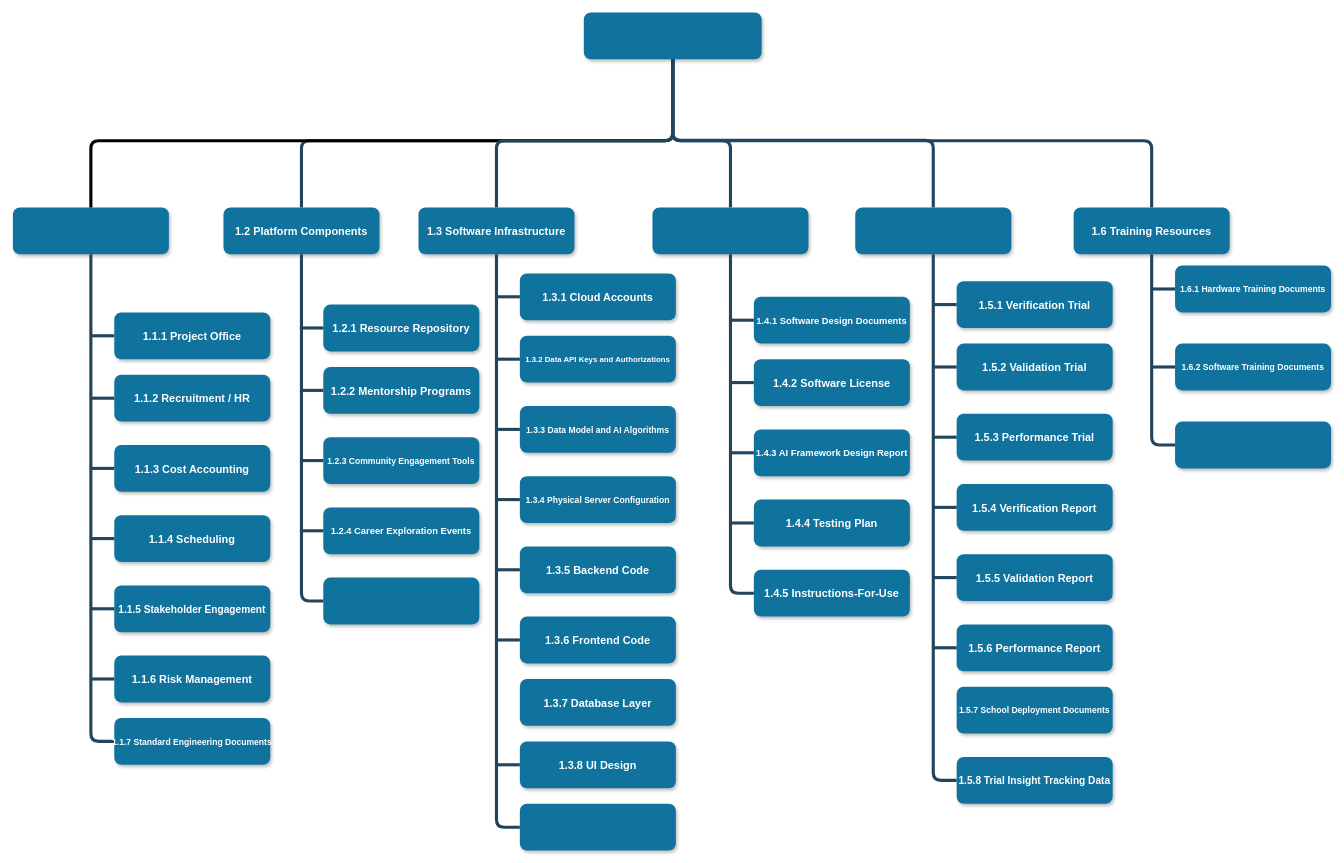
This 1344x863 diagram has some shape labels left out. The shapes that lost their labels are listed below. From the top down, each one's centre as x and y in pixels, then its label:
At pixel 673 36: "1.Digital Education and Mentorship Platform".
At pixel 91 231: "1.1 Project Management".
At pixel 731 231: "1.4 Software Documents".
At pixel 934 231: "1.5 Deployment Trials".
At pixel 1253 445: "1.6.3 User Training Documents".
At pixel 402 601: "1.2.5 Progress Tracking Features".
At pixel 598 828: "1.3.9 Dashboard".
